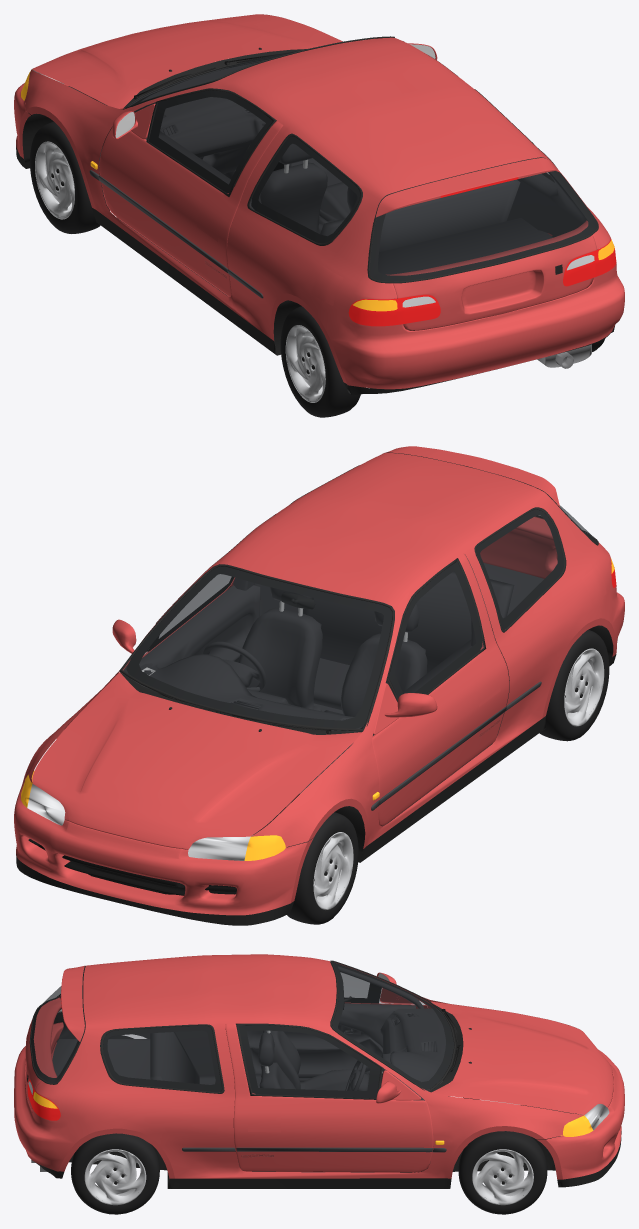
File: civic_eg.glb
The picture shows the model from 3 angles, top to bottom: view 1: azimuth 30°, elevation 25°; view 2: azimuth 150°, elevation 25°; view 3: azimuth 270°, elevation 25°; orthographic projection. The views are drawn at different scales.
Parts seen in each view (by area): view 1: Body, Wheel_RL, Wheel_FL; view 2: Body, Wheel_FL, Wheel_RL, SteeringWheel; view 3: Body, Wheel_FR, Wheel_RR, SteeringWheel.
Part boxes in pixels (left/top/right/bottom): Body: left=14, top=14, right=624, bottom=395; Wheel_RL: left=280, top=306, right=360, bottom=417; Wheel_FL: left=30, top=121, right=109, bottom=233; Body: left=14, top=446, right=624, bottom=925; Wheel_FL: left=286, top=812, right=358, bottom=924; Wheel_RL: left=539, top=629, right=609, bottom=741; SteeringWheel: left=203, top=641, right=266, bottom=691; Body: left=14, top=954, right=624, bottom=1188; Wheel_FR: left=458, top=1131, right=547, bottom=1214; Wheel_RR: left=71, top=1133, right=159, bottom=1214; SteeringWheel: left=345, top=1060, right=369, bottom=1090.
Size of the model in its own units: 1.91 by 1.34 by 4.05.
